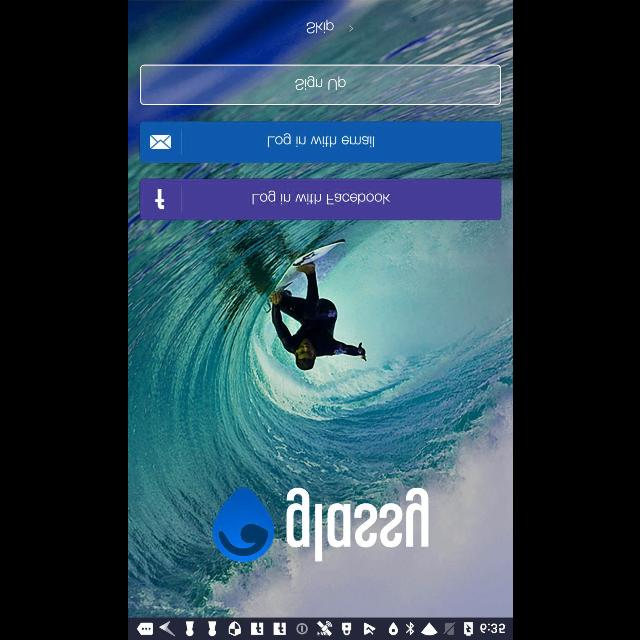backgroundimage: (128, 0, 512, 618)
icon: (349, 24, 353, 32)
image: (212, 486, 428, 562)
text: (305, 20, 333, 34)
textbutton: (139, 178, 501, 220), (140, 64, 500, 106), (139, 121, 501, 162)
uppertaskbar: (128, 617, 512, 639)
